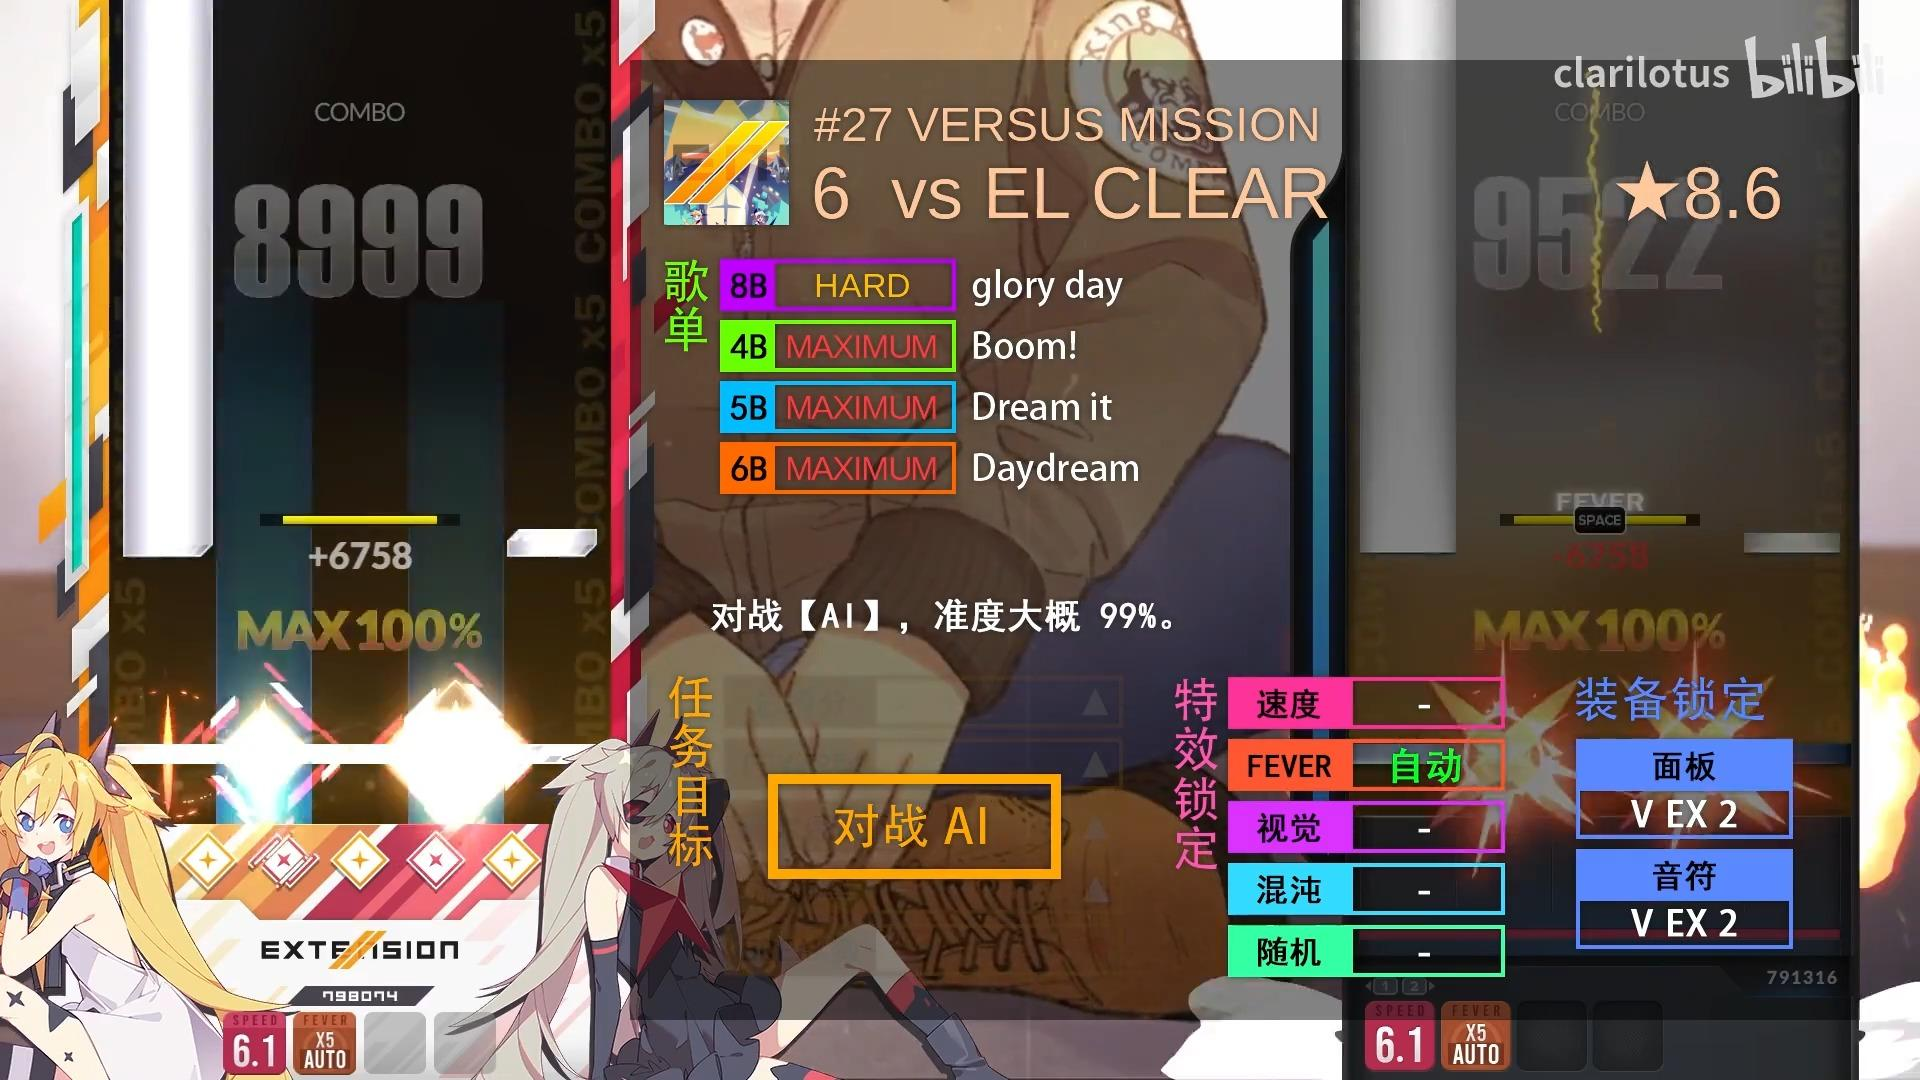hold-start: (121, 527, 214, 558)
note: (506, 527, 599, 559)
